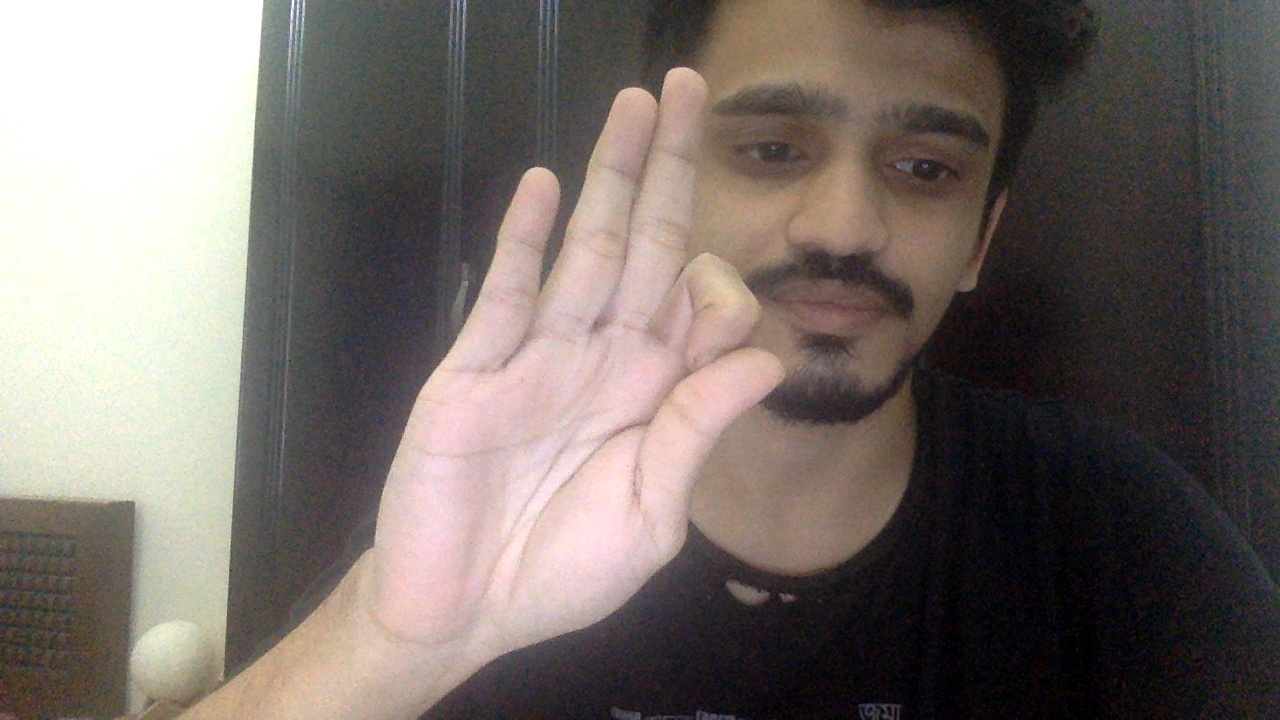perfect: (374, 65, 786, 663)
